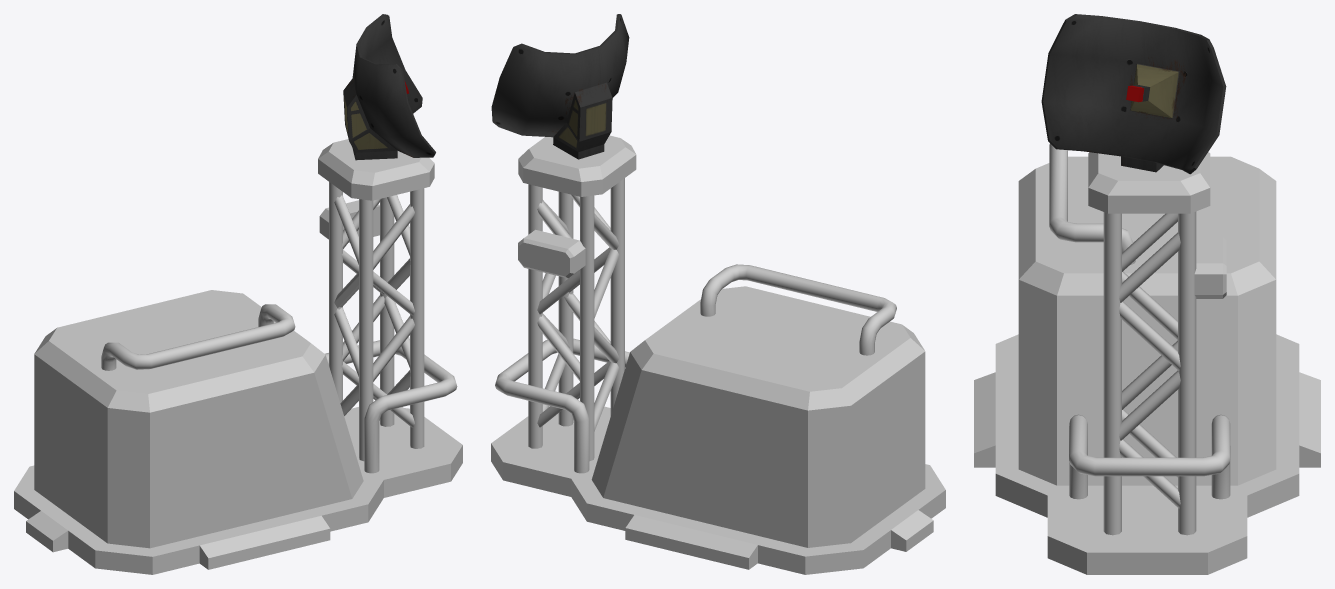
3 views of the same model, side by side, from view 1: azimuth 30°, elevation 25°; view 2: azimuth 150°, elevation 25°; view 3: azimuth 270°, elevation 25° (orthographic). The views are drawn at different scales.
Visible parts, largest first — view 1: radar_tower, antene; view 2: radar_tower, antene; view 3: radar_tower, antene.
Part boxes in pixels (<box>): radar_tower: <box>14,139,462,574</box>; antene: <box>343,14,435,160</box>; radar_tower: <box>491,135,945,574</box>; antene: <box>491,14,629,159</box>; radar_tower: <box>974,143,1320,574</box>; antene: <box>1041,14,1226,174</box>.
Bounding box in the file's own units: 1168 × 1166 × 708.
